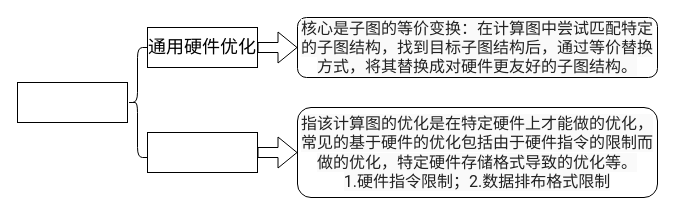
Some shapes in this 675 by 215 pixel diagram are drawn without their labels. The shapes that lost their labels are listed below. From the top down, each one's centre as x and y in pixels, then its label:
At point (72, 102): "计算图优化".
At point (202, 152): "特定硬件优化".
